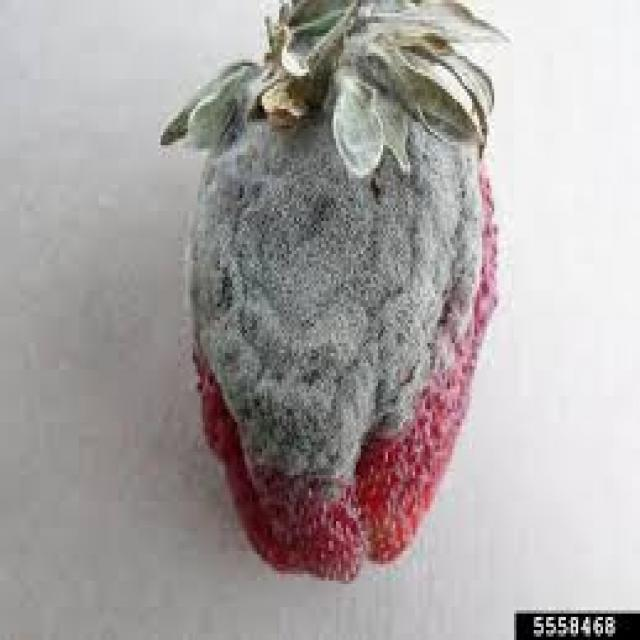Moho gris: (185, 49, 500, 584)
